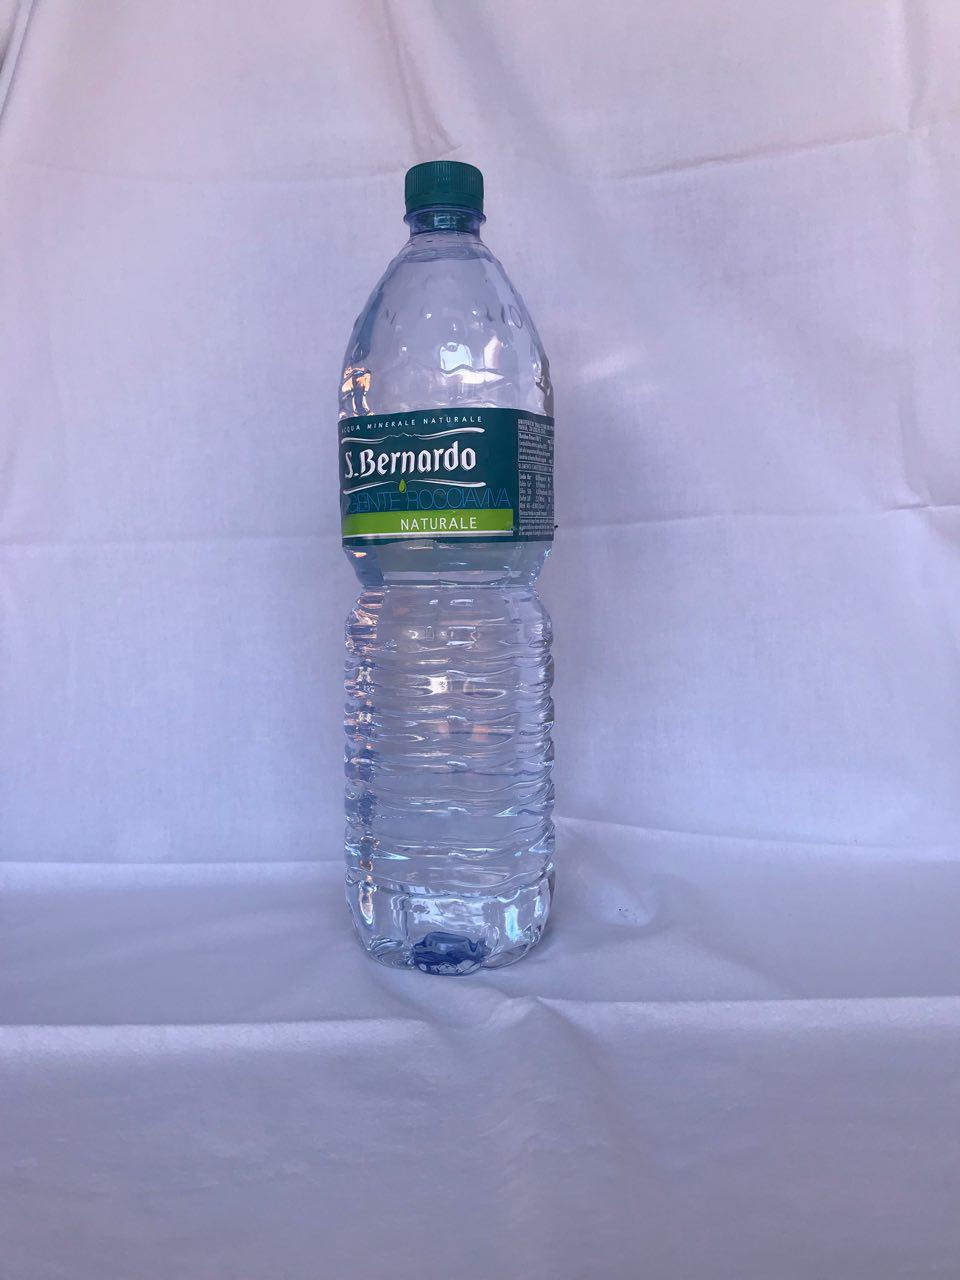san_bernardo: (336, 159, 557, 977)
